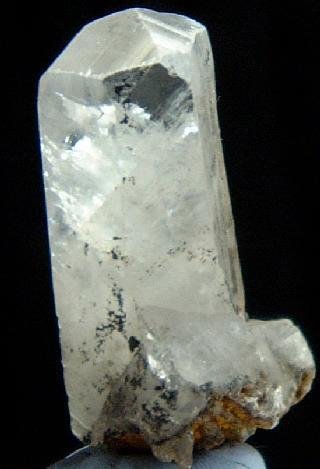calcite: (39, 8, 315, 466)
